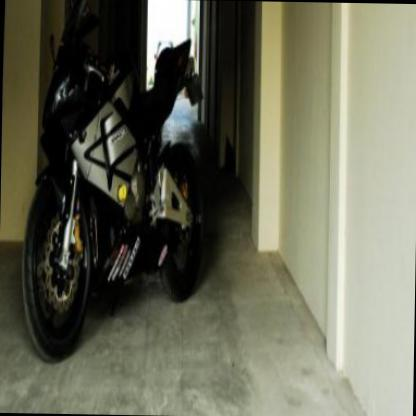motorcycle: (28, 11, 206, 326)
